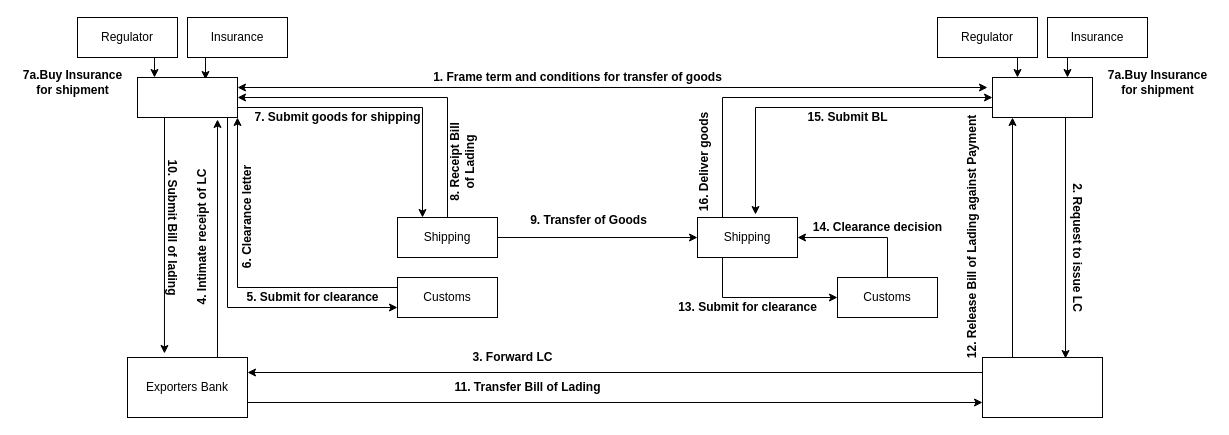
Image size: 1229x435. Some labels were removed from this diagram. The shapes that lost their labels are listed below. From the top down, each one's centre as x and y in pixels, then its label:
At (187,97): "Exporter".
At (1042,97): "Importer".
At (1042,387): "Importers Bank".
